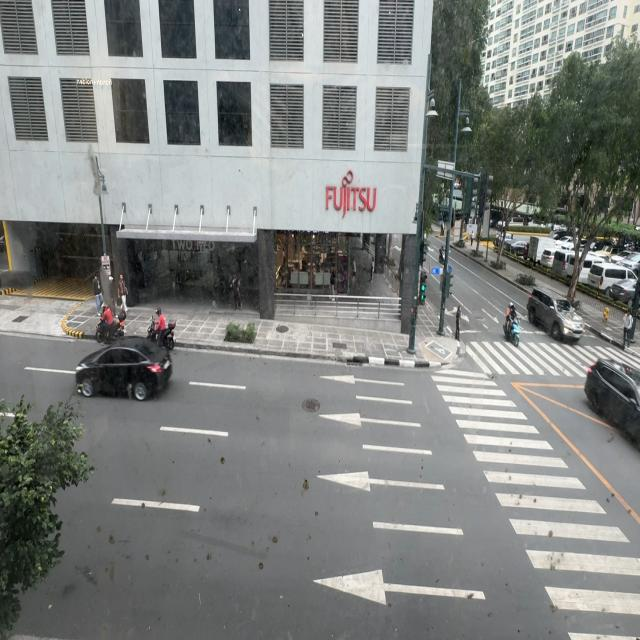crossing: (621, 284, 638, 342)
waiting: (455, 305, 462, 341)
